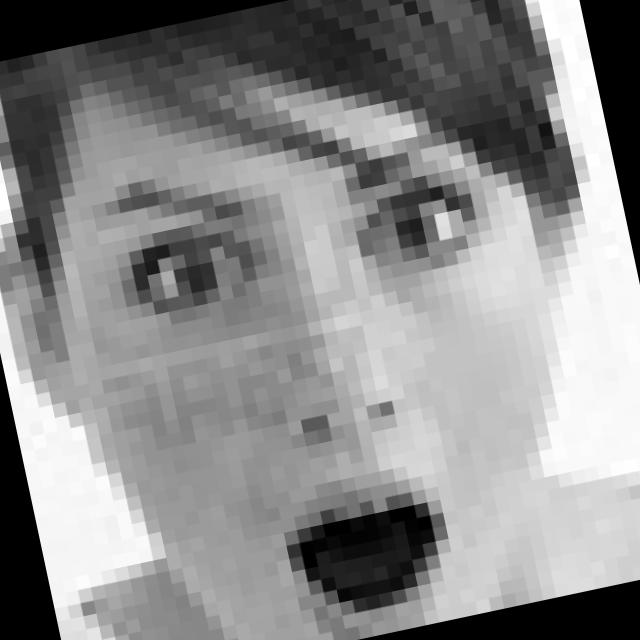surprise: (86, 110, 573, 640)
